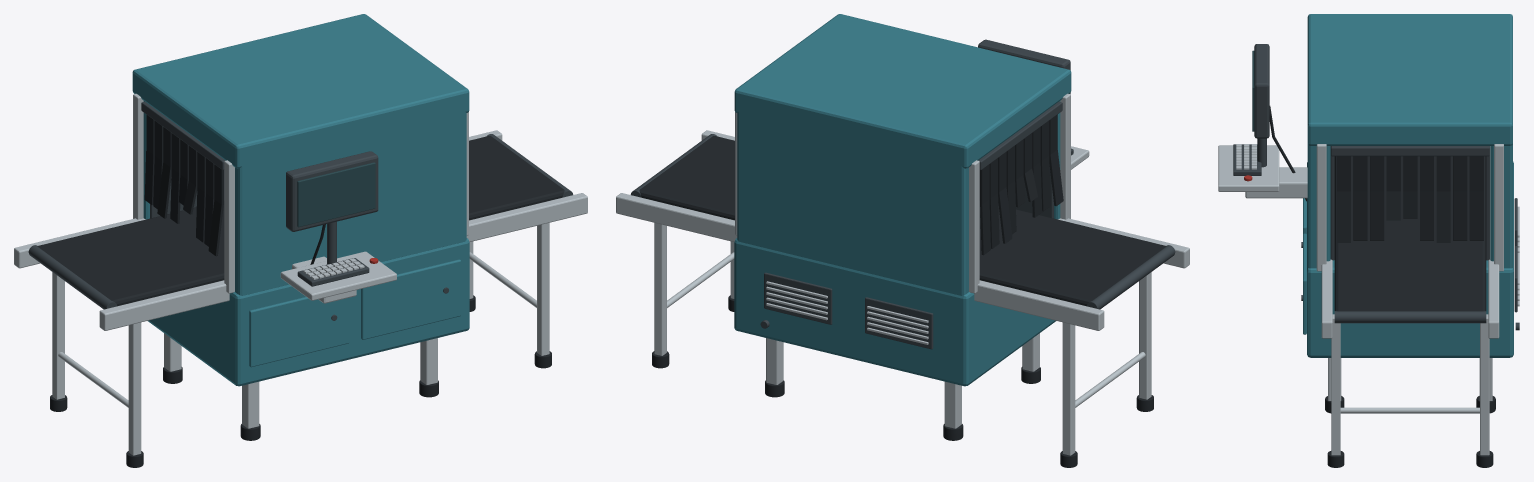
File: city-baggage-inspection-tunnel.glb
3 renders of one model, left to right at view 1: azimuth 30°, elevation 25°; view 2: azimuth 150°, elevation 25°; view 3: azimuth 270°, elevation 25°, orthographic. The views are drawn at different scales.
Parts seen in each view (by area): view 1: Assembly | Muted teal equipment finish, Assembly | Dark belt curtain and tire rubber, Assembly | Satin terminal fixture metal, Assembly | Dark service trim, Assembly | Blank opaque display panel; view 2: Assembly | Muted teal equipment finish, Assembly | Dark belt curtain and tire rubber, Assembly | Satin terminal fixture metal, Assembly | Dark service trim; view 3: Assembly | Muted teal equipment finish, Assembly | Dark belt curtain and tire rubber, Assembly | Satin terminal fixture metal, Assembly | Dark service trim.
Part boxes in pixels (box(x1,y1,x2,y2)): Assembly | Muted teal equipment finish: box(132, 14, 469, 386); Assembly | Dark belt curtain and tire rubber: box(37, 114, 564, 467); Assembly | Satin terminal fixture metal: box(14, 93, 587, 455); Assembly | Dark service trim: box(28, 101, 573, 320); Assembly | Blank opaque display panel: box(297, 162, 375, 227); Assembly | Muted teal equipment finish: box(734, 14, 1071, 386); Assembly | Dark belt curtain and tire rubber: box(639, 114, 1166, 467); Assembly | Satin terminal fixture metal: box(616, 93, 1189, 455); Assembly | Dark service trim: box(630, 39, 1175, 349); Assembly | Muted teal equipment finish: box(1303, 14, 1513, 357); Assembly | Dark belt curtain and tire rubber: box(1269, 106, 1495, 467); Assembly | Satin terminal fixture metal: box(1218, 144, 1519, 455); Assembly | Dark service trim: box(1233, 44, 1519, 330).
Size of the model in its own units: 2.52 by 1.53 by 1.4.
